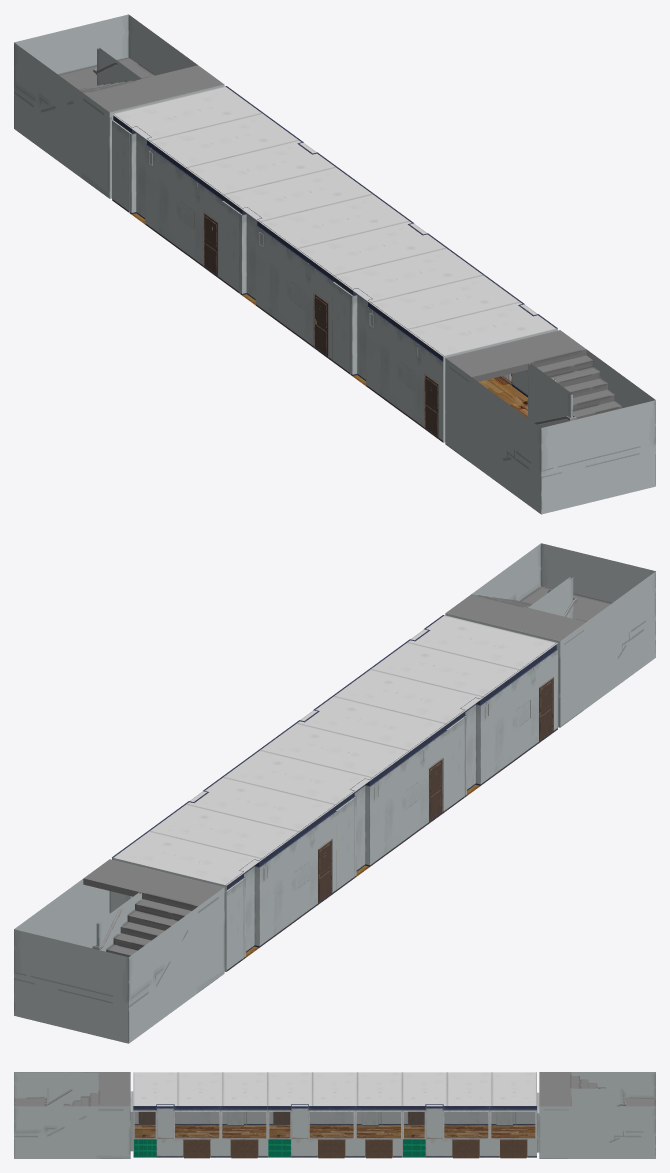
Rendered from schooll.glb.
3 views of the same model, one above another, from view 1: azimuth 30°, elevation 25°; view 2: azimuth 150°, elevation 25°; view 3: azimuth 270°, elevation 25° (orthographic). The views are drawn at different scales.
Parts seen in each view (by area): view 1: The Japanese school corridor_Ladder_0, The Japanese school corridor_Roof_0, The Japanese school corridor_Wall_0, The Japanese school corridor_Floor_0, The Japanese school corridor_Windows_0; view 2: The Japanese school corridor_Ladder_0, The Japanese school corridor_Roof_0, The Japanese school corridor_Wall_0, The Japanese school corridor_Windows_0; view 3: The Japanese school corridor_Windows_0, The Japanese school corridor_Ladder_0, The Japanese school corridor_Roof_0, The Japanese school corridor_Wall_0, The Japanese school corridor_Floor_0.
Boxes of the visible parts, box(x1,y1,x2,y2) form: The Japanese school corridor_Ladder_0: box(14, 14, 655, 514); The Japanese school corridor_Roof_0: box(112, 86, 556, 356); The Japanese school corridor_Wall_0: box(112, 114, 443, 442); The Japanese school corridor_Floor_0: box(112, 200, 527, 442); The Japanese school corridor_Windows_0: box(225, 86, 557, 397); The Japanese school corridor_Ladder_0: box(14, 543, 655, 1043); The Japanese school corridor_Roof_0: box(113, 615, 557, 885); The Japanese school corridor_Wall_0: box(225, 643, 557, 971); The Japanese school corridor_Windows_0: box(112, 615, 444, 859); The Japanese school corridor_Windows_0: box(133, 1104, 536, 1158); The Japanese school corridor_Ladder_0: box(14, 1072, 655, 1158); The Japanese school corridor_Roof_0: box(133, 1072, 536, 1106); The Japanese school corridor_Wall_0: box(134, 1111, 535, 1126); The Japanese school corridor_Floor_0: box(134, 1125, 536, 1157).
Size of the model in its own units: 4.67 by 3.35 by 37.
Materials: 5 (5 with a texture image).
